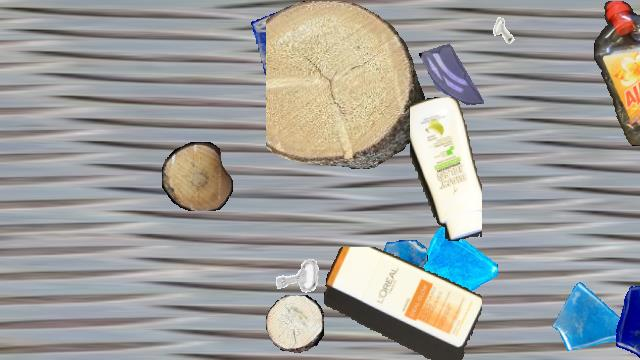glass: (404, 225, 498, 319), (251, 1, 343, 93), (552, 279, 632, 359), (418, 38, 488, 108), (368, 240, 428, 300), (607, 281, 640, 359)
metal: (323, 93, 381, 151), (270, 248, 326, 304), (485, 12, 523, 50)
plastic: (324, 247, 482, 359), (410, 97, 482, 241), (593, 1, 640, 145)
wood: (266, 1, 424, 169), (162, 142, 232, 210), (266, 295, 324, 353)
